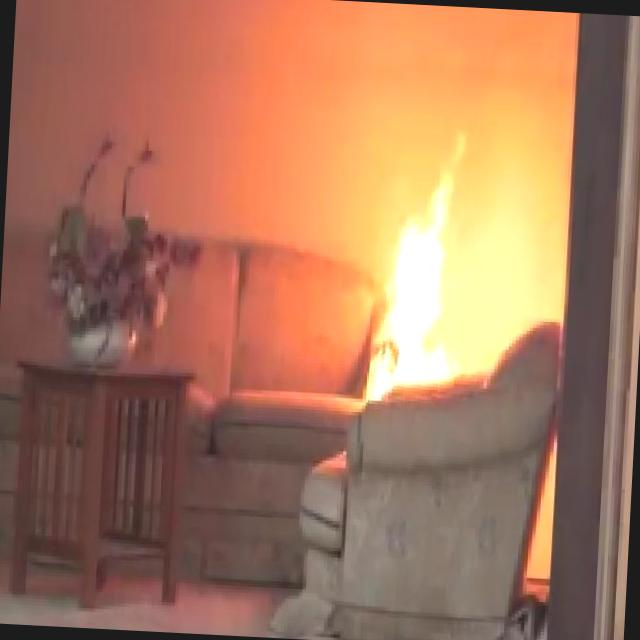fire: (359, 151, 498, 406)
